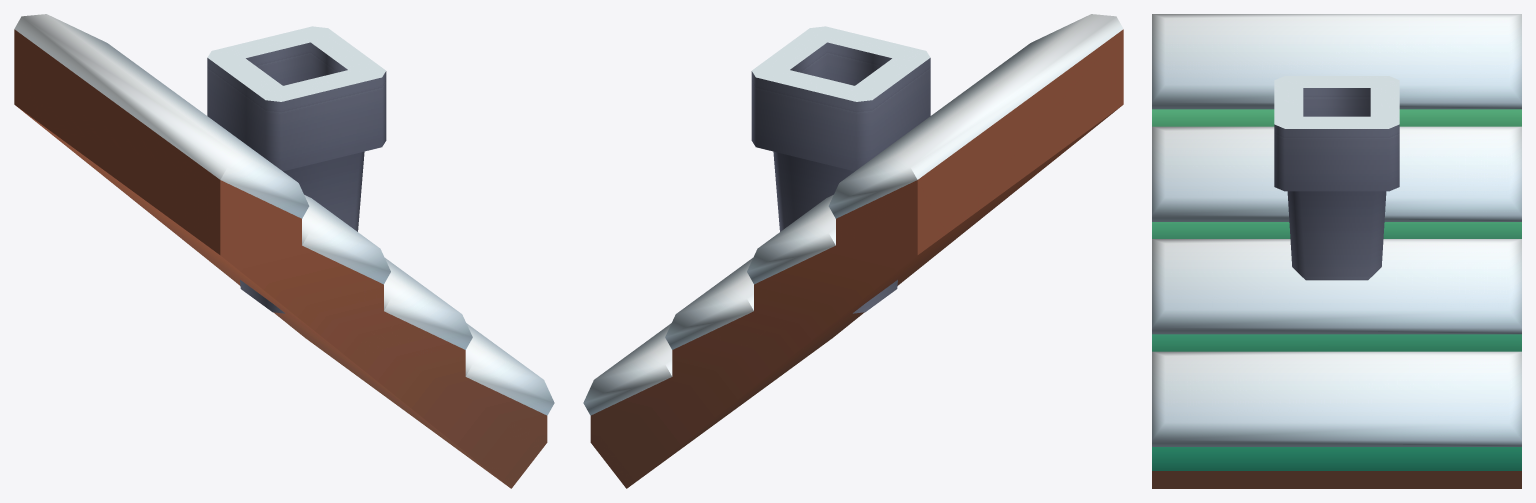
File: cabin-roof-snow-chimney.glb
3 views of the same model, side by side, from view 1: azimuth 30°, elevation 25°; view 2: azimuth 150°, elevation 25°; view 3: azimuth 270°, elevation 25° (orthographic). The views are drawn at different scales.
Visible parts, largest first — view 1: cabin-roof-snow-chimney; view 2: cabin-roof-snow-chimney; view 3: cabin-roof-snow-chimney.
Part boxes in pixels (x1,y1,x2,y2): cabin-roof-snow-chimney: (14,14,554,488); cabin-roof-snow-chimney: (583,14,1123,488); cabin-roof-snow-chimney: (1152,14,1521,488).
Size of the model in its own units: 1.31 by 1.48 by 1.4.
1 material, 1 textured.
